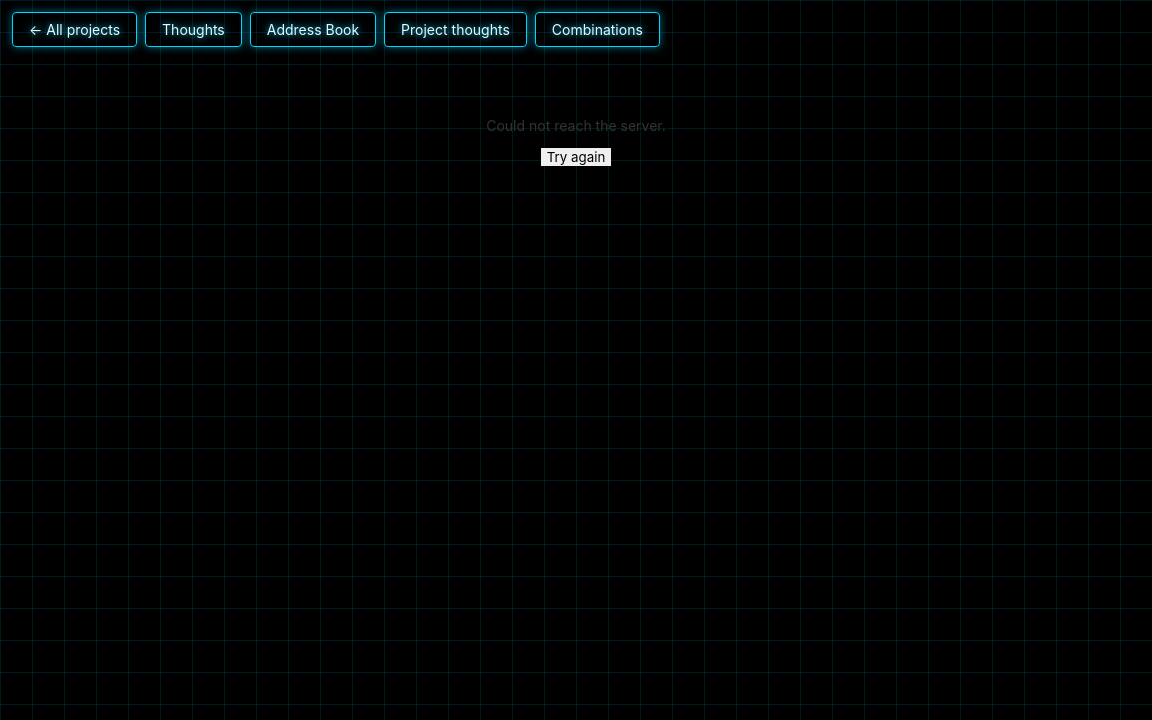
Test case: ProjectPage › offers a retry instead of a blank canvas when the load fails
This screenshot has width=1152, height=720.
Check: the message reads "Could not reach the server.", box left=486, top=117, right=666, bottom=134
Click the button "Try again": (576, 157) left=541, top=148, right=611, bottom=166
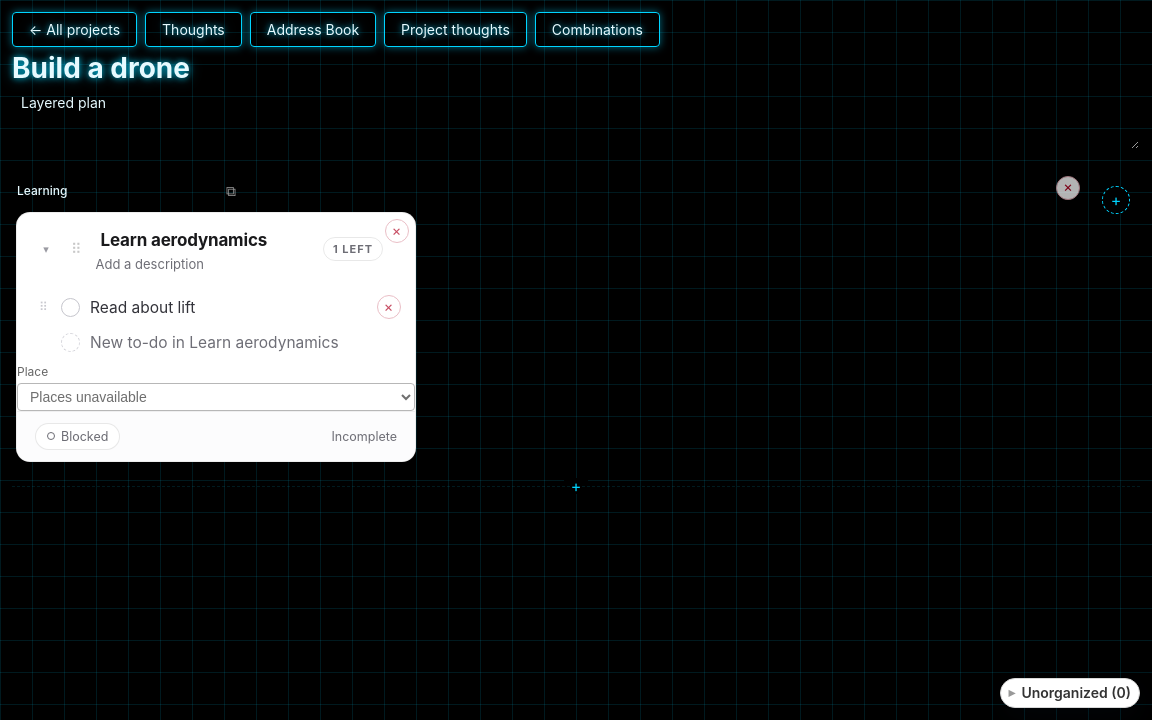
Check: the heading "Build a drone" is shown, box left=12, top=51, right=190, bottom=85
